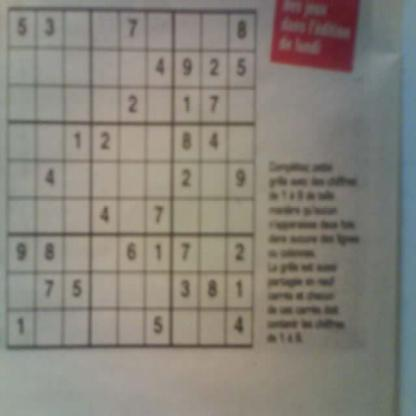sudoku: (3, 3, 261, 358)
